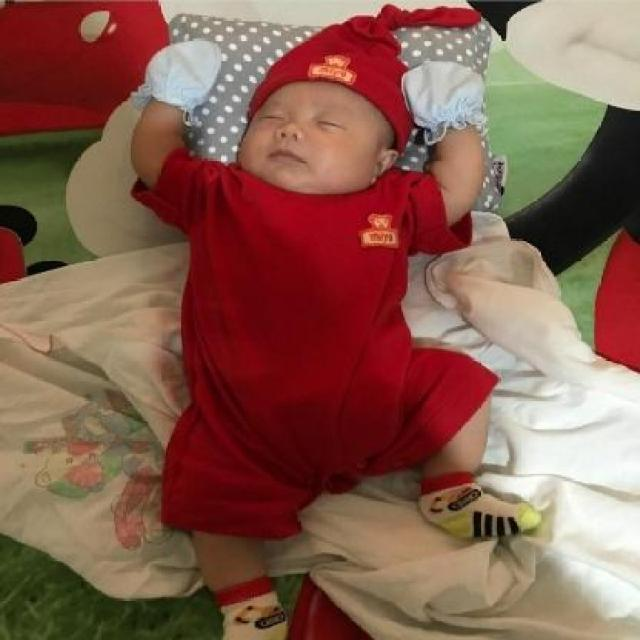baby: (122, 10, 540, 636)
